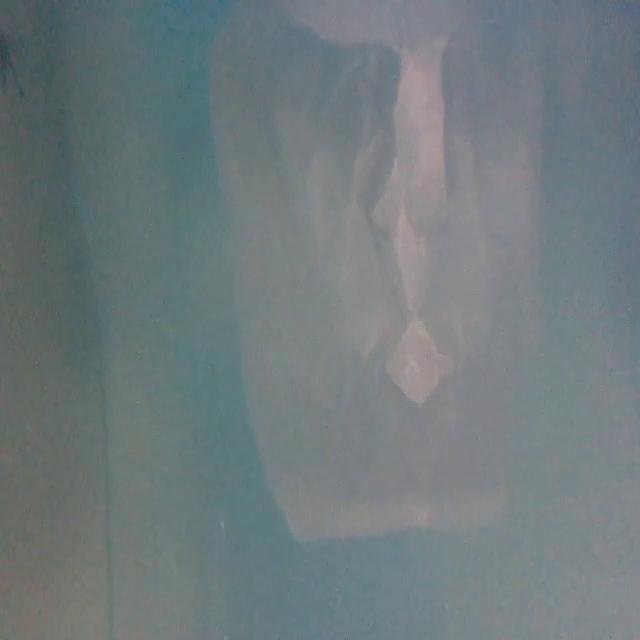plastic bags: (216, 0, 556, 547)
